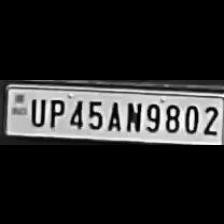0: (180, 100, 200, 134)
2: (199, 101, 219, 135)
4: (66, 96, 84, 128)
5: (84, 96, 104, 130)
8: (162, 100, 180, 134)
9: (141, 99, 161, 133)
A: (104, 96, 122, 132)
N: (122, 98, 142, 132)
P: (44, 95, 64, 127)
U: (27, 96, 46, 127)
